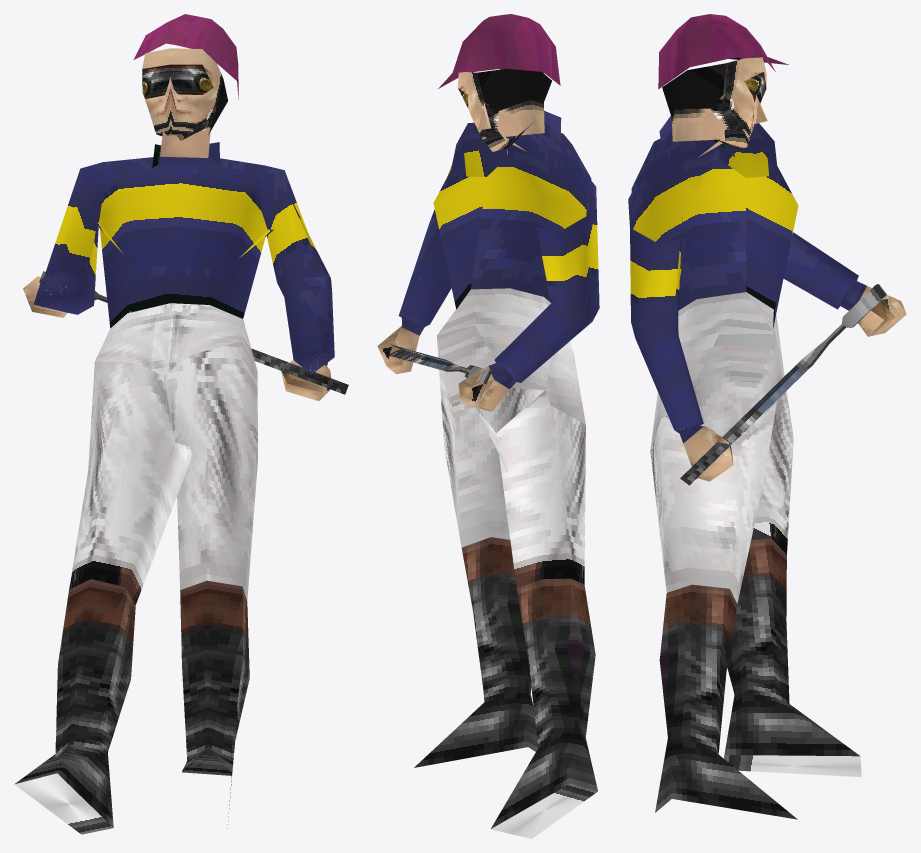
File: ps2_save-icons_g1jockey2.glb
3 renders of one model, left to right at view 1: azimuth 30°, elevation 25°; view 2: azimuth 150°, elevation 25°; view 3: azimuth 270°, elevation 25°, orthographic. The views are drawn at different scales.
Parts seen in each view (by area): view 1: story.ico; view 2: story.ico; view 3: story.ico.
Part boxes in pixels (left/top/right/bottom): story.ico: left=14, top=14, right=348, bottom=834; story.ico: left=377, top=14, right=599, bottom=838; story.ico: left=628, top=14, right=906, bottom=819.
Size of the model in its own units: 1.74 by 4.99 by 1.6.
Materials: 1 (1 with a texture image).
